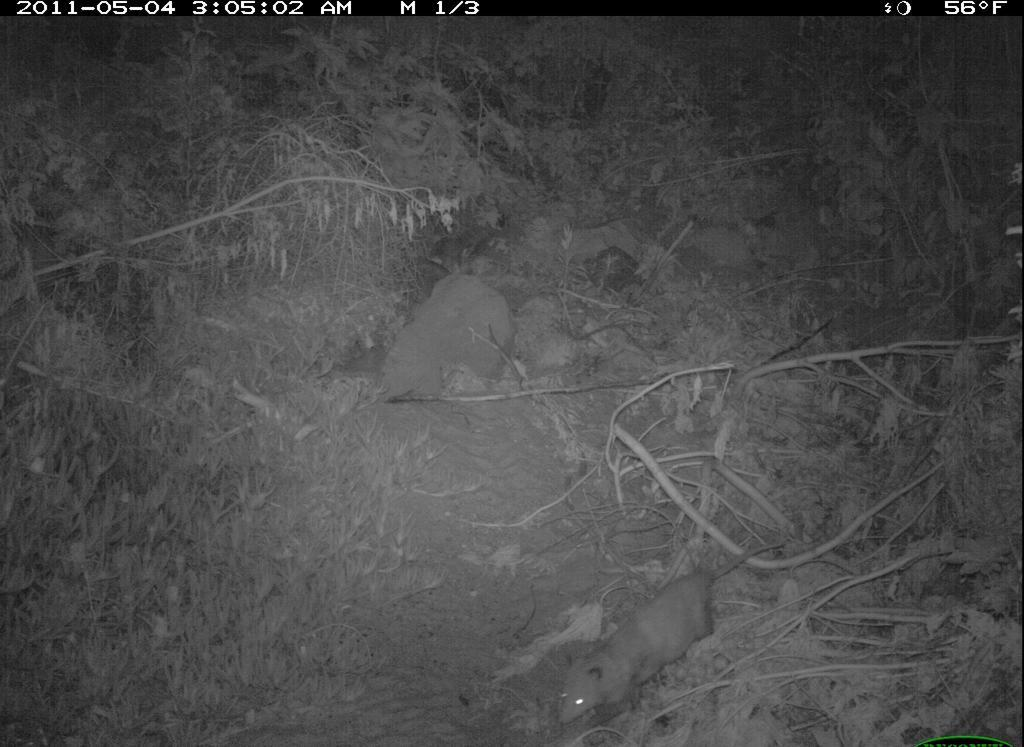opossum: (543, 525, 813, 728)
